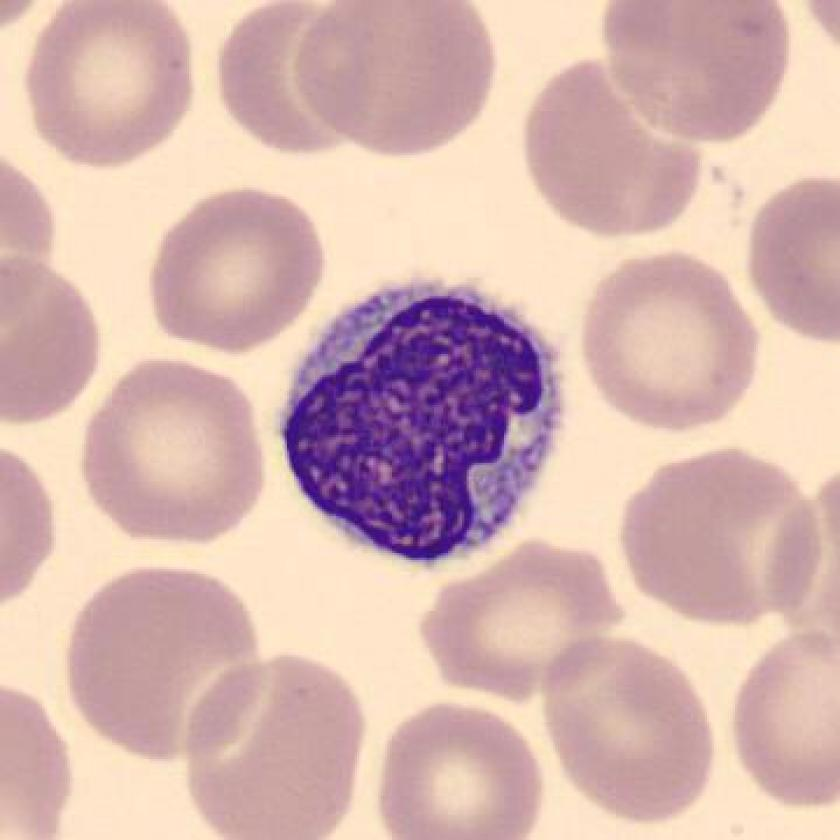lymphocyte: (260, 263, 584, 584)
